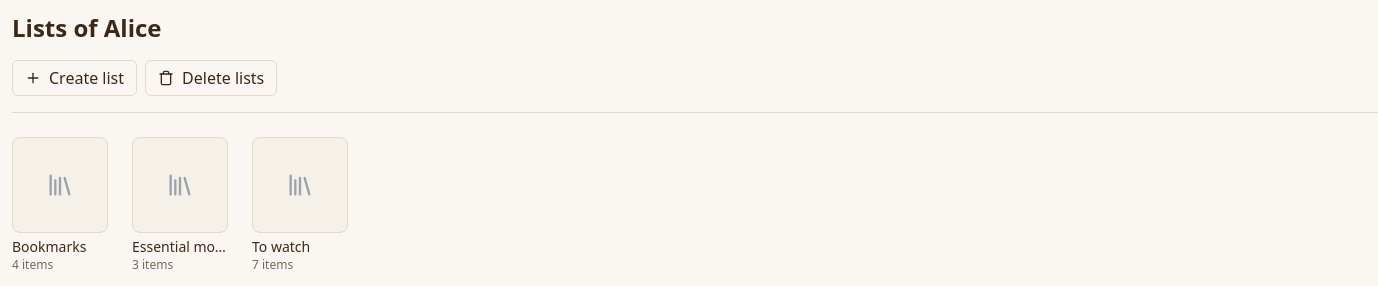
Scenario: ListsManager › disables the confirm button until something is selected
Click the button with test id "start-delete-lists-button" at (211, 78), box [145, 60, 277, 96]
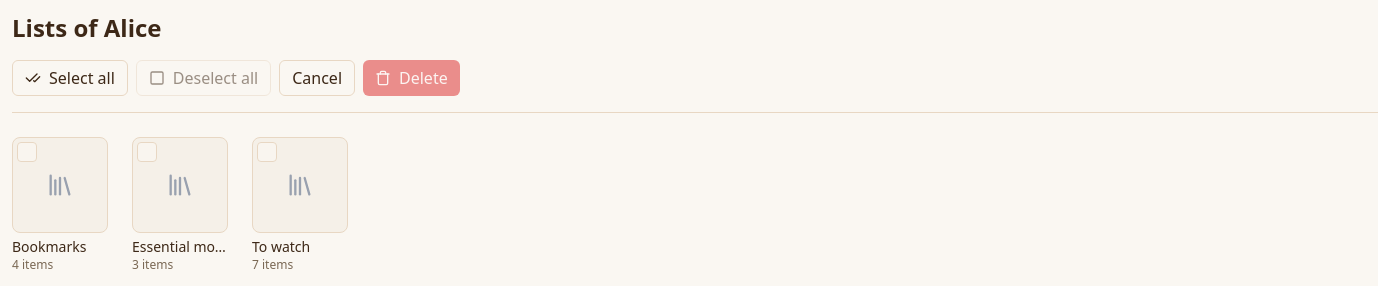
expect the button with test id "confirm-delete-lists-button" is disabled: met, box [363, 60, 460, 96]
Click the button with test id "media-list-button" at (60, 185), box [12, 137, 108, 233]
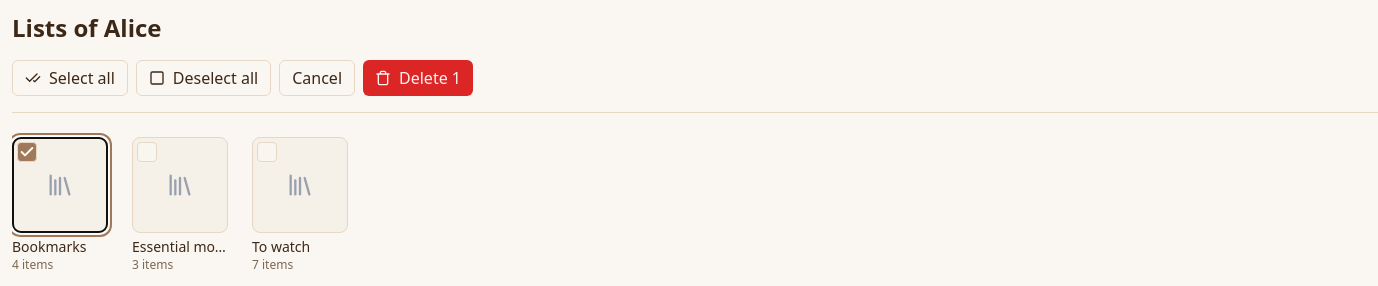
expect the button with test id "confirm-delete-lists-button" is enabled: met, box [363, 60, 473, 96]
